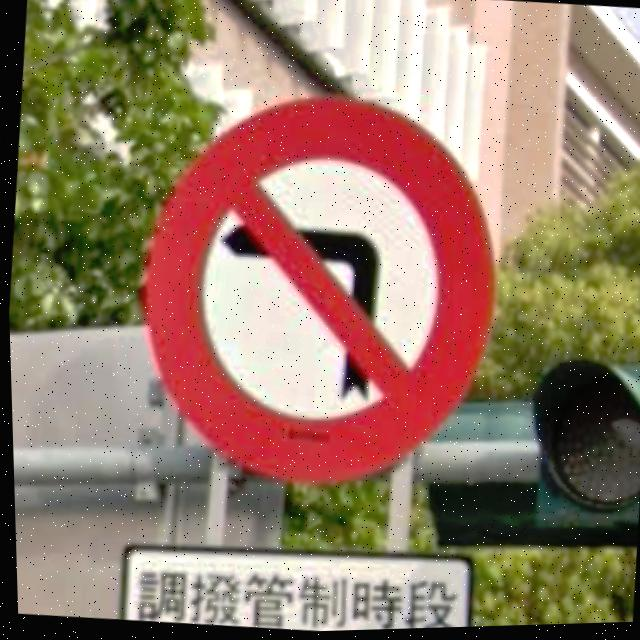noturnleft: (112, 72, 517, 506)
